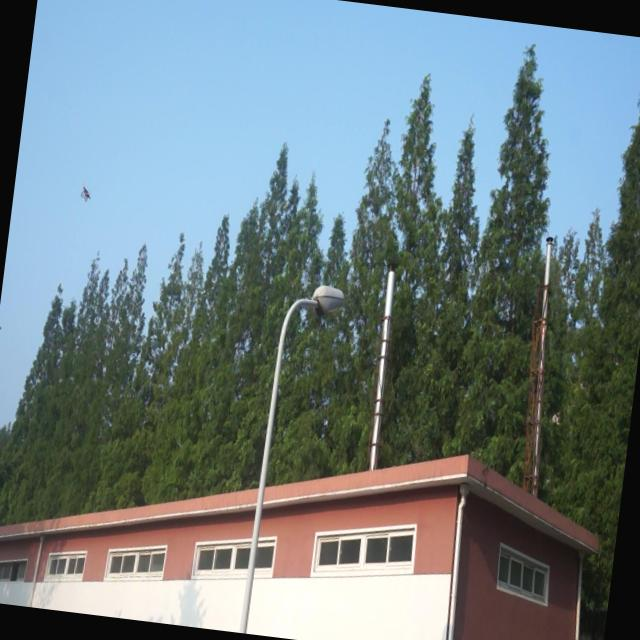drone: (76, 182, 95, 206)
